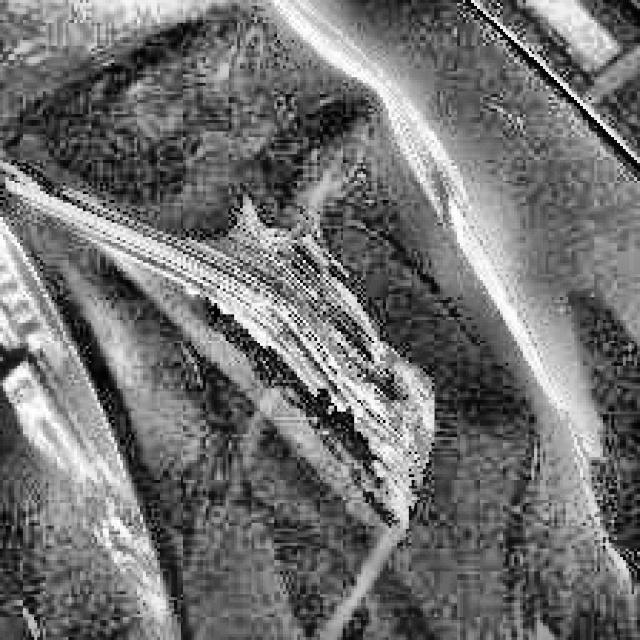door_dent: (35, 31, 467, 526)
